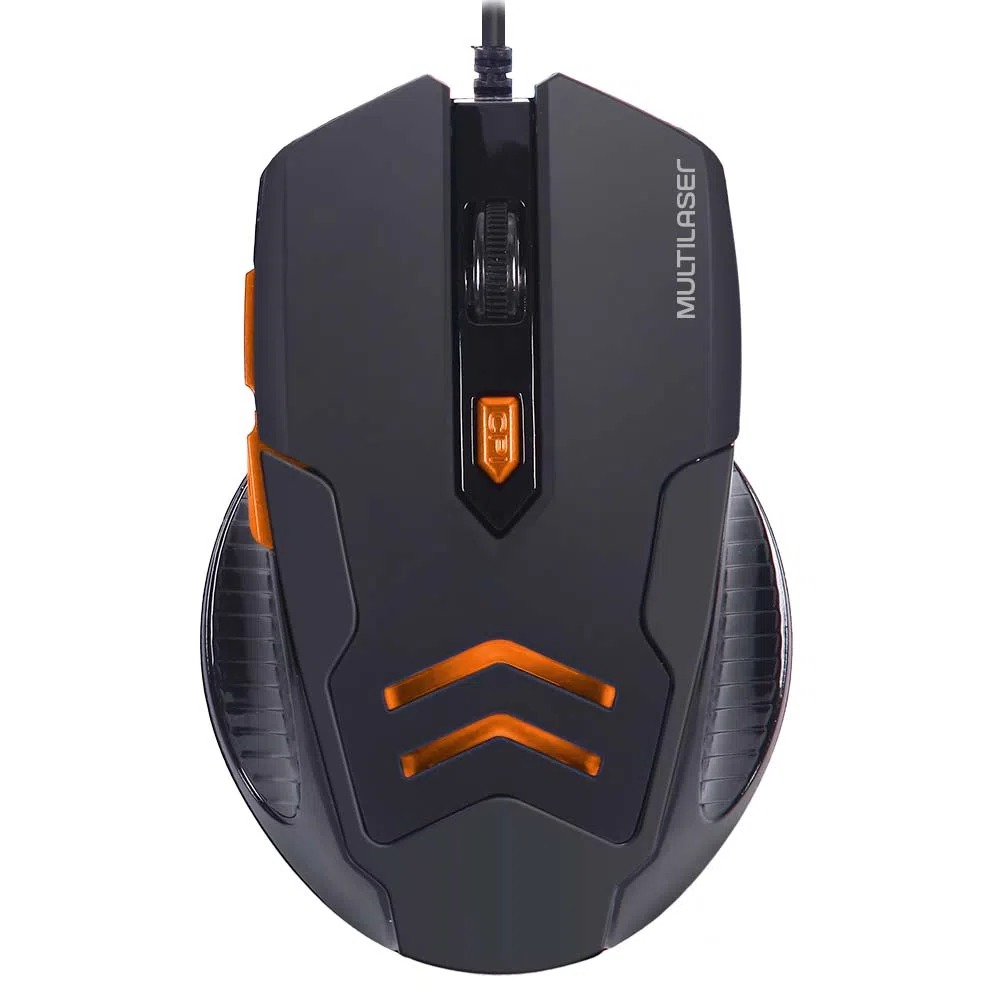mouse: (164, 21, 801, 977)
